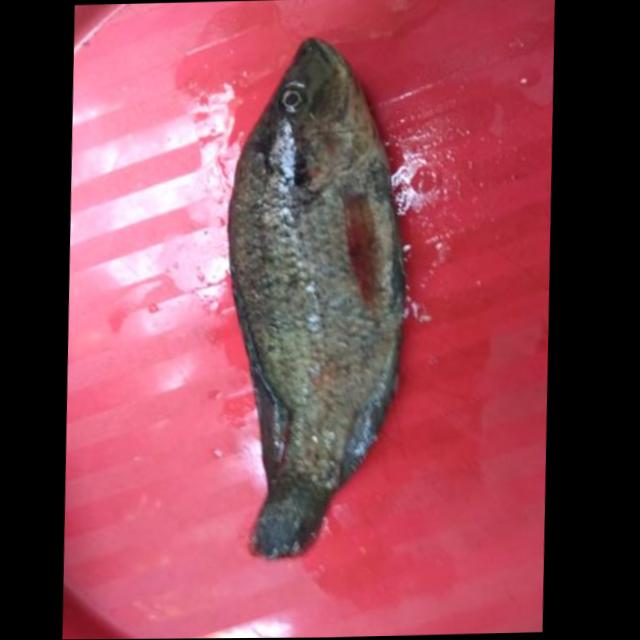Tilapia: (211, 29, 420, 562)
